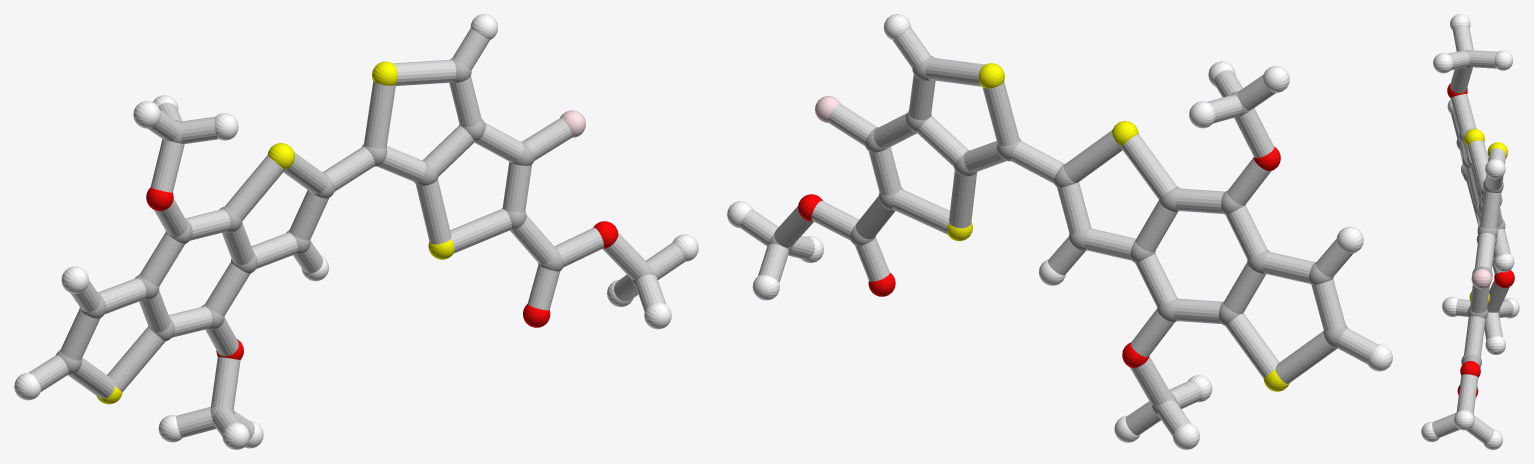
The model's file is Dimethoxy_Benzodithiophene_Phi_5_Theta_160_Methylcarbonyl_3_Fluoro_Thienothiophene.glb.
3 views of the same model, side by side, from view 1: azimuth 30°, elevation 25°; view 2: azimuth 150°, elevation 25°; view 3: azimuth 270°, elevation 25° (orthographic). The views are drawn at different scales.
Visible parts, largest first — view 1: grp15205, grp8689, grp1, grp7241, grp13395; view 2: grp15205, grp8689, grp1, grp7241, grp13395; view 3: grp15205, grp8689, grp1, grp13395, grp7241, grp14843.
Part boxes in pixels (box(x1,y1,x2,y2)): grp15205: box(28, 28, 685, 439); grp8689: box(14, 14, 698, 449); grp1: box(56, 58, 655, 418); grp7241: box(96, 61, 454, 404); grp13395: box(146, 187, 618, 359); grp15205: box(740, 27, 1377, 435); grp8689: box(727, 14, 1392, 449); grp1: box(768, 55, 1348, 414); grp7241: box(947, 63, 1289, 391); grp13395: box(798, 146, 1280, 367); grp15205: box(1432, 25, 1513, 443); grp8689: box(1421, 14, 1519, 449); grp1: box(1455, 49, 1505, 416); grp13395: box(1447, 83, 1514, 397); grp7241: box(1464, 129, 1507, 303); grp14843: box(1471, 269, 1492, 289).
Size of the model in its own units: 16.96 by 9.42 by 2.87.
